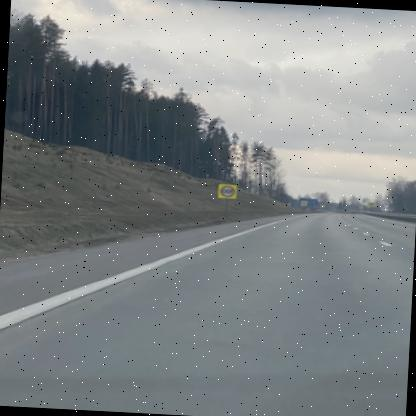speedlimit: (220, 184, 238, 196)
